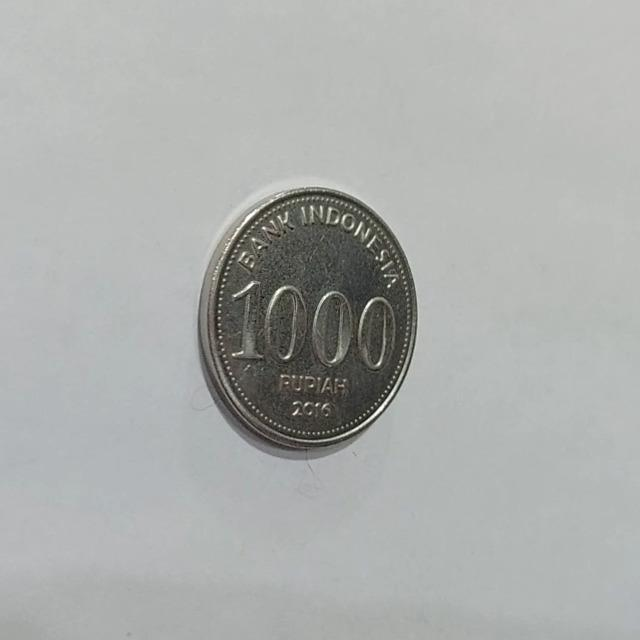Rp100: (195, 183, 419, 458)
